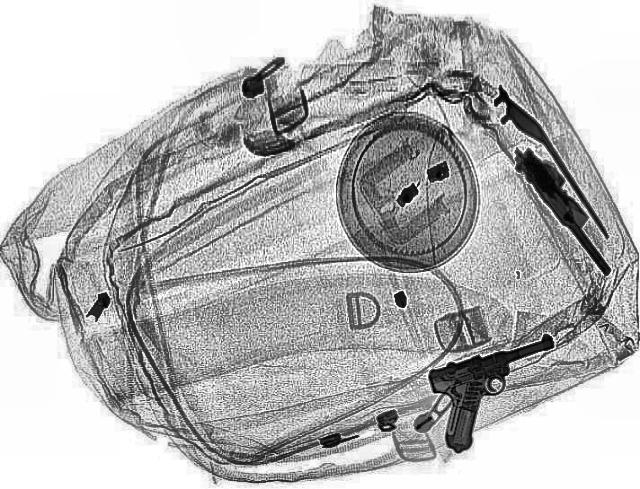Gun: (404, 334, 596, 453), (502, 140, 632, 276)
